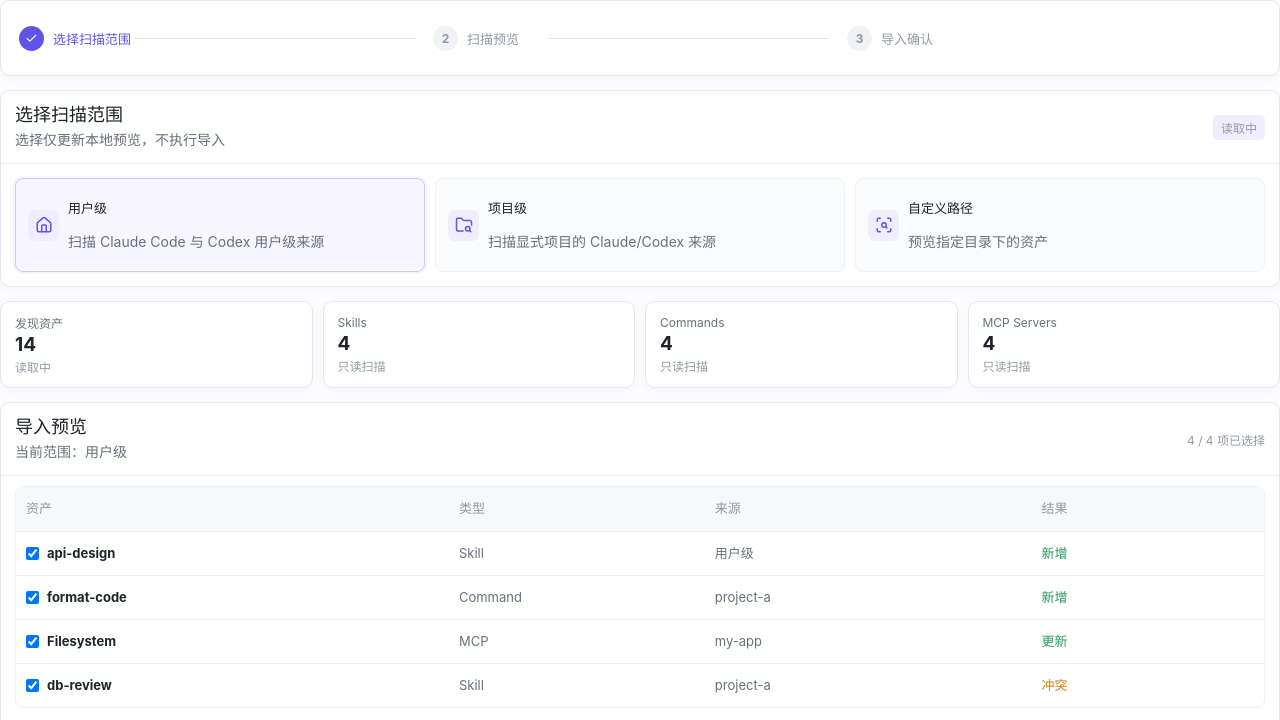
Test case: remaining V1 static pages › updates only the local Scan scope selection
Step 1. Click the button "项目级 扫描显式项目的 Claude/Codex 来源" → (464, 225), box [435,178,845,272]
(page scrolled)
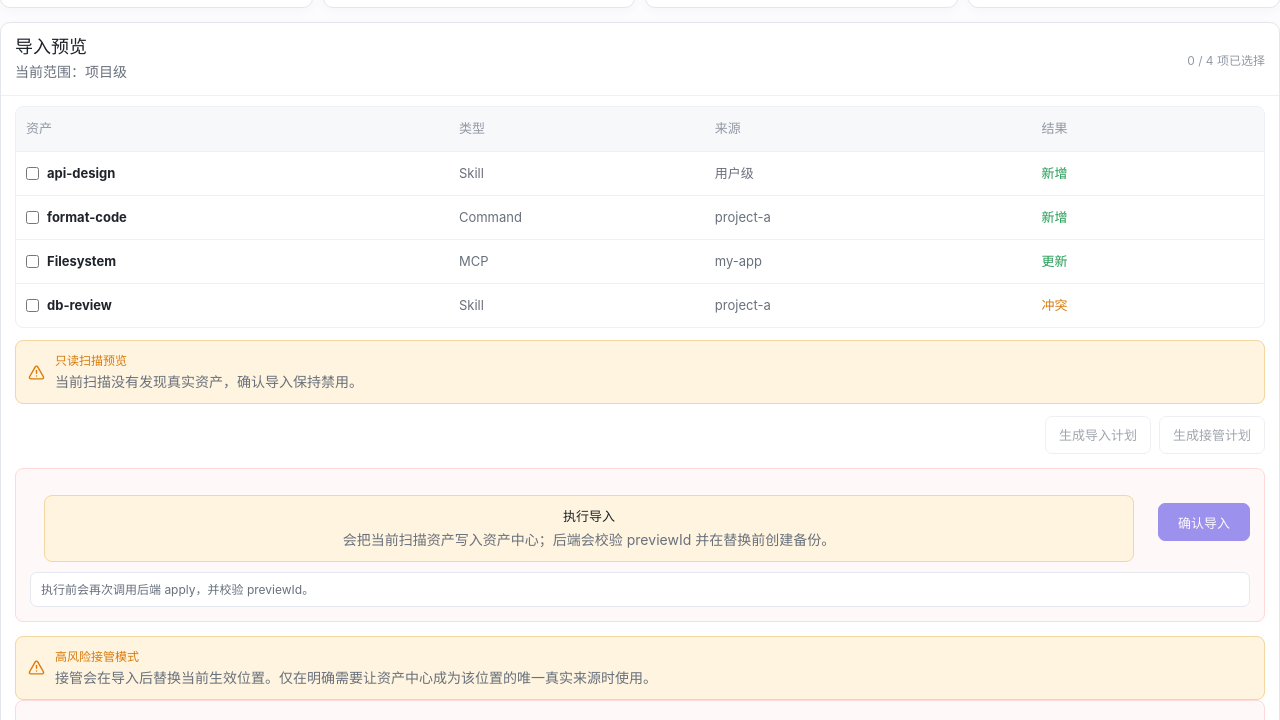
Check: the table named "导入预览表" is shown, box [15,106,1265,328]
Check: the text "当前范围：项目级" is shown, box [15,62,127,83]
Check: the text "只读扫描预览" is shown, box [55,353,127,368]
